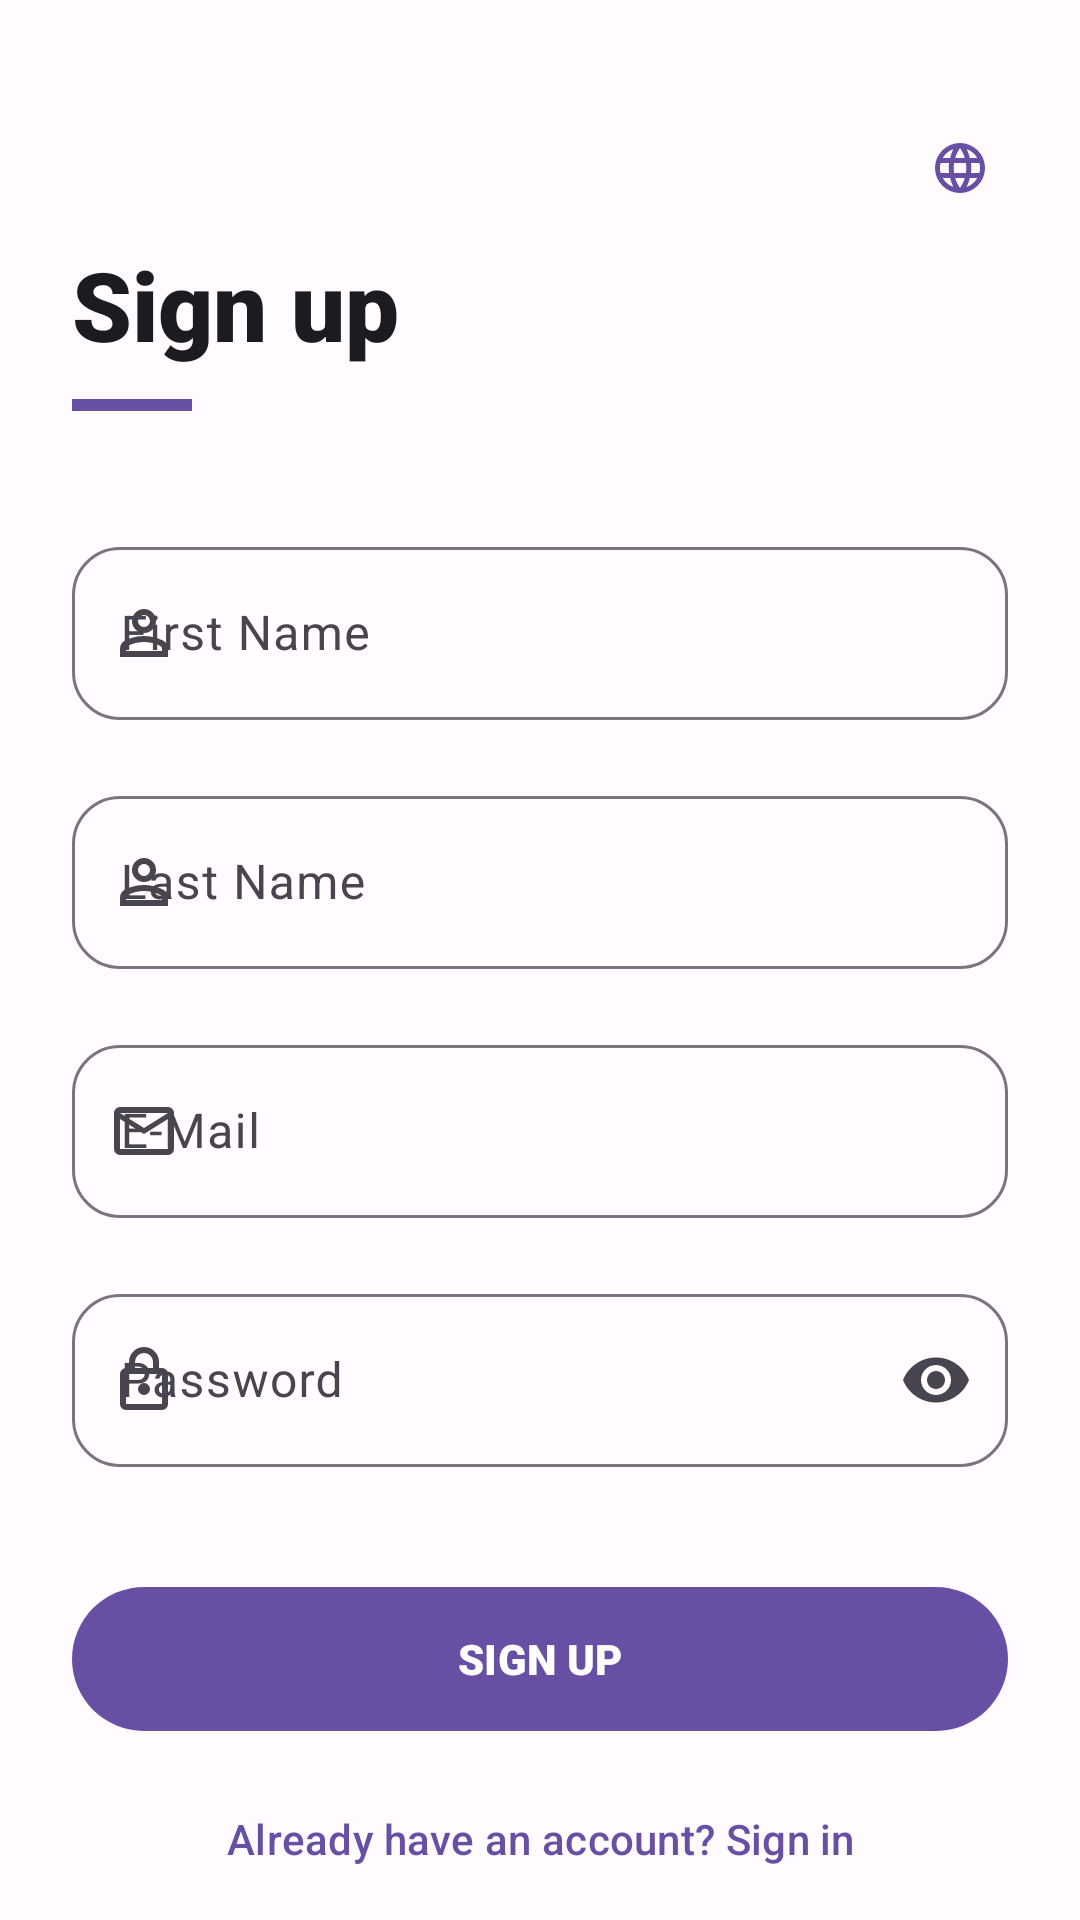

Icon bounding boxes for this 1080×1920 phone screenshot, format [x1,y1,x2,y2]:
Select Language: [935,143,985,193]
